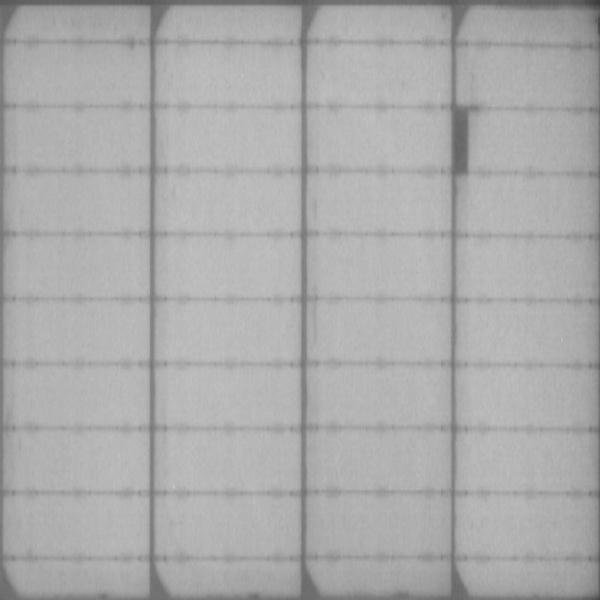black_border: (446, 102, 476, 178)
